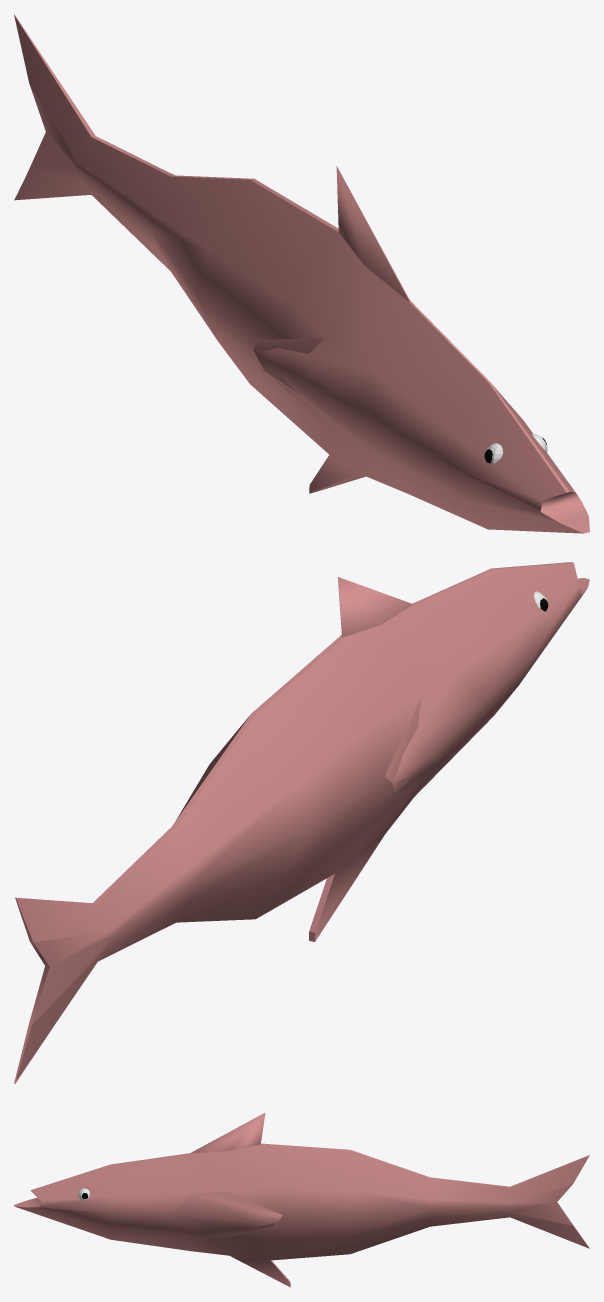
File: Fish_FBX.fbx
The picture shows the model from 3 angles, top to bottom: view 1: azimuth 30°, elevation 25°; view 2: azimuth 150°, elevation 25°; view 3: azimuth 270°, elevation 25°; orthographic projection. The views are drawn at different scales.
Parts seen in each view (by area): view 1: pSphere5; view 2: pSphere5; view 3: pSphere5.
Part boxes in pixels (bbox=[...]): pSphere5: bbox=[14, 14, 589, 533]; pSphere5: bbox=[14, 562, 589, 1083]; pSphere5: bbox=[14, 1113, 589, 1287].
Size of the model in its own units: 10.45 by 24.49 by 73.36.
